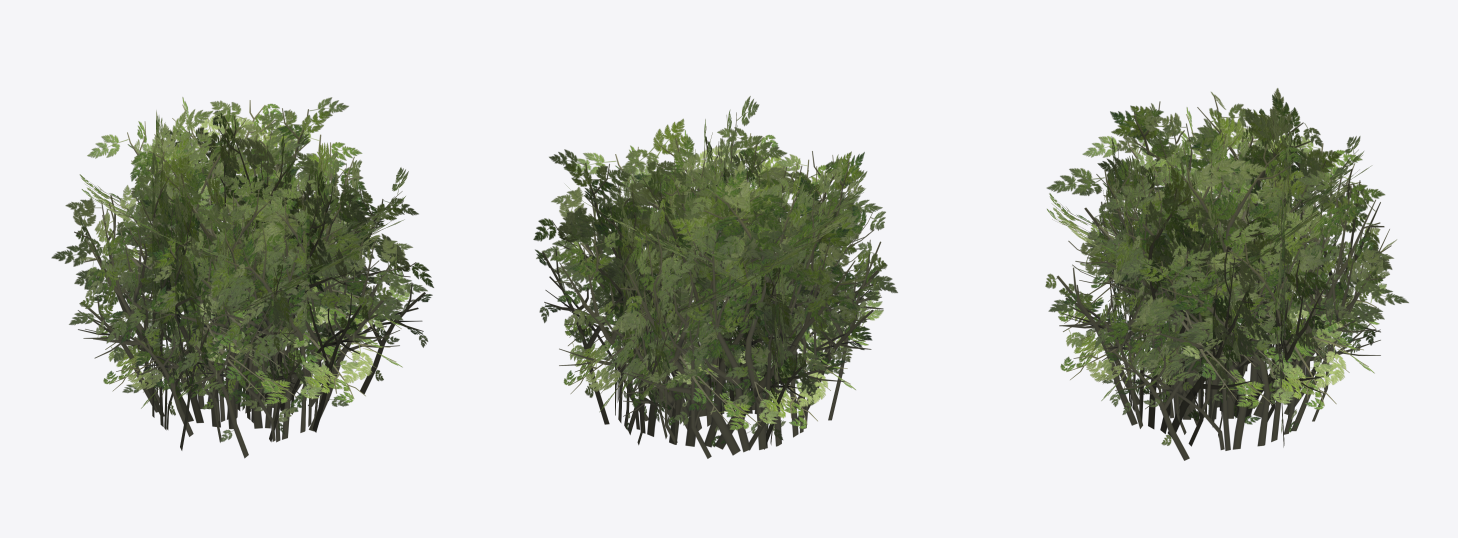
Rendered from Bush4.gltf.
3 views of the same model, side by side, from view 1: azimuth 30°, elevation 25°; view 2: azimuth 150°, elevation 25°; view 3: azimuth 270°, elevation 25° (orthographic).
Visible parts, largest first — view 1: Bush-04_16; view 2: Bush-04_16; view 3: Bush-04_16.
Boxes of the visible parts, x1,y1,x2,y2 form: Bush-04_16: [51, 97, 433, 458]; Bush-04_16: [533, 96, 897, 458]; Bush-04_16: [1045, 88, 1408, 460].
Bounding box in the file's own units: 35.17 × 30.66 × 36.79.
Materials: 4 (4 with a texture image).
